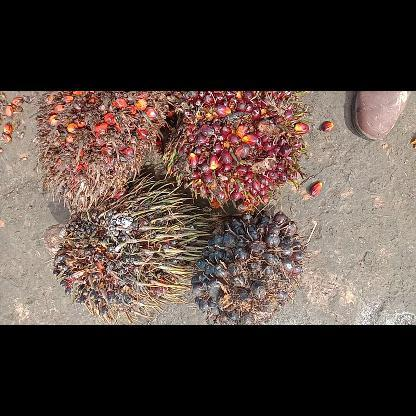TBS abnormal: (42, 172, 192, 320)
TBS masak: (170, 90, 310, 209)
TBS mentah: (193, 208, 302, 324)
Terlalu masak: (38, 91, 170, 216)
